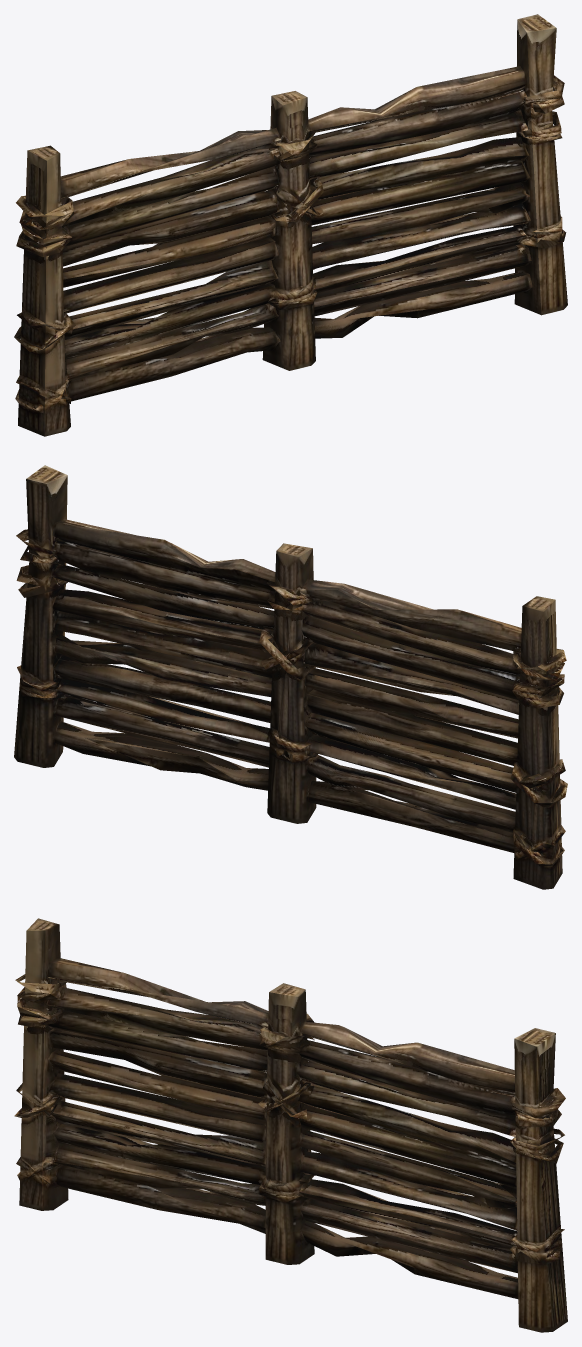
File: act1_kit_v1_hurdle_fence.glb
The picture shows the model from 3 angles, top to bottom: view 1: azimuth 30°, elevation 25°; view 2: azimuth 150°, elevation 25°; view 3: azimuth 330°, elevation 25°; orthographic projection.
Visible parts, largest first — view 1: A01_4_hurdle_fence; view 2: A01_4_hurdle_fence; view 3: A01_4_hurdle_fence.
Part boxes in pixels (x1,y1,x2,y2): A01_4_hurdle_fence: (14, 14, 567, 436); A01_4_hurdle_fence: (14, 465, 567, 889); A01_4_hurdle_fence: (14, 918, 567, 1332).
Size of the model in its own units: 1 by 0.4971 by 0.0953.
Materials: 1 (1 with a texture image).
